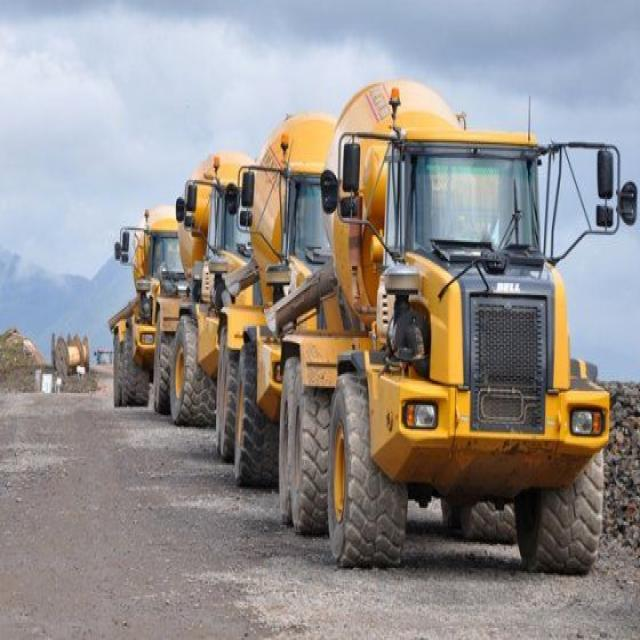dump_truck: (287, 115, 616, 568)
